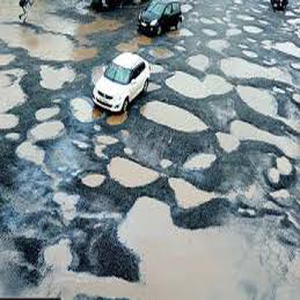pothole: (215, 120, 300, 165), (138, 99, 210, 137), (218, 53, 296, 84), (166, 67, 234, 98), (106, 153, 161, 187), (168, 175, 219, 209), (237, 81, 280, 120), (36, 63, 79, 91), (67, 96, 101, 125), (15, 142, 49, 167), (26, 120, 67, 139), (78, 168, 107, 193), (148, 45, 176, 59), (186, 53, 210, 69), (202, 38, 229, 51)
